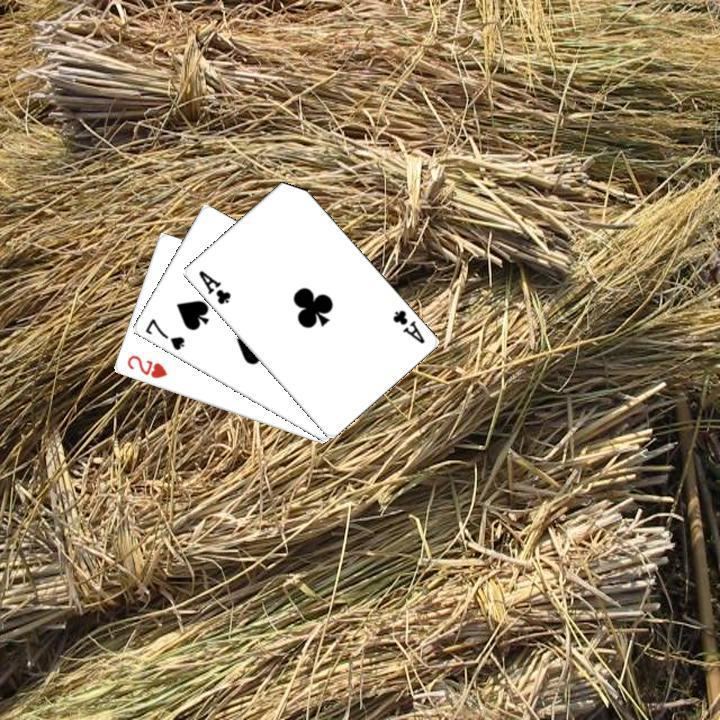2: (122, 351, 169, 381)
7: (140, 314, 186, 352)
A: (194, 266, 233, 306), (388, 305, 426, 346)
